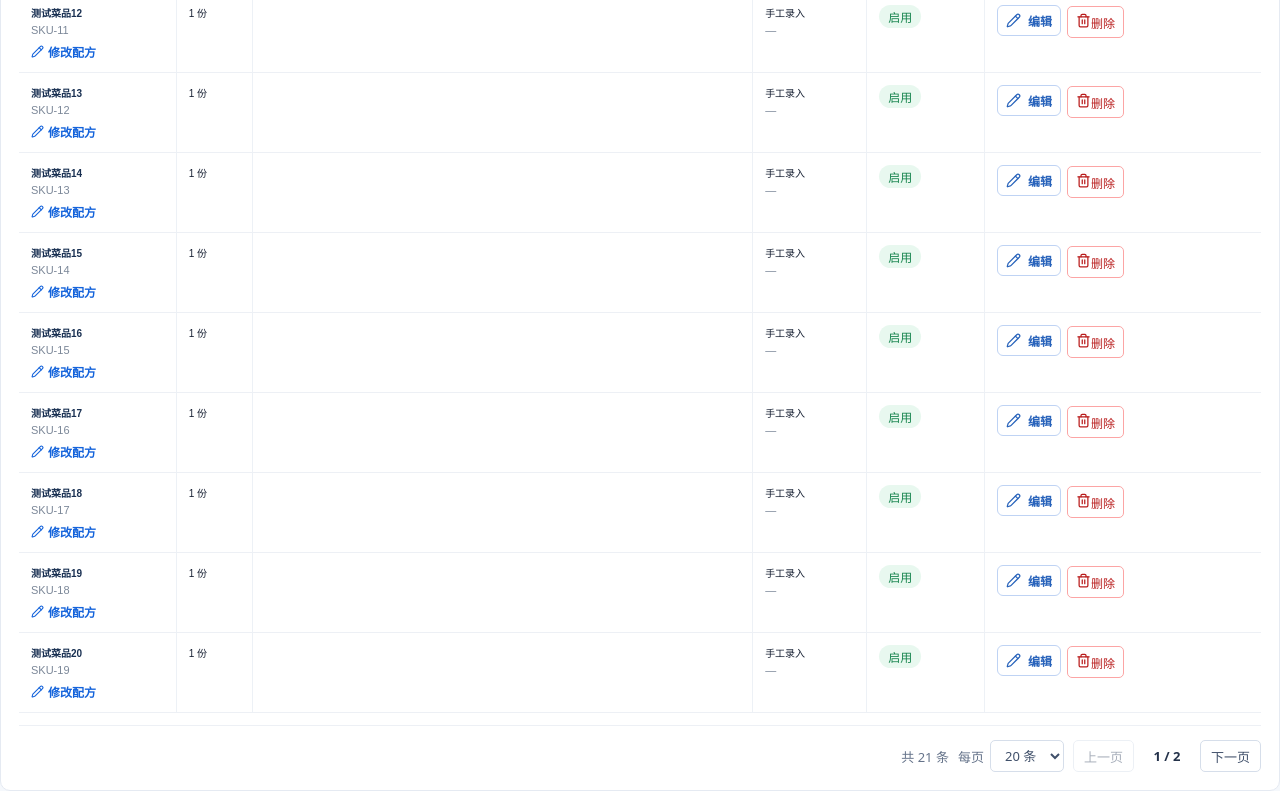
配方分页覆盖完整列表，搜索同一个框可匹配原料分类
(page scrolled)
Check: the button "测试菜品21" is not shown
Click the button "下一页" at (1230, 756), box [1200, 740, 1261, 772]
(page scrolled)
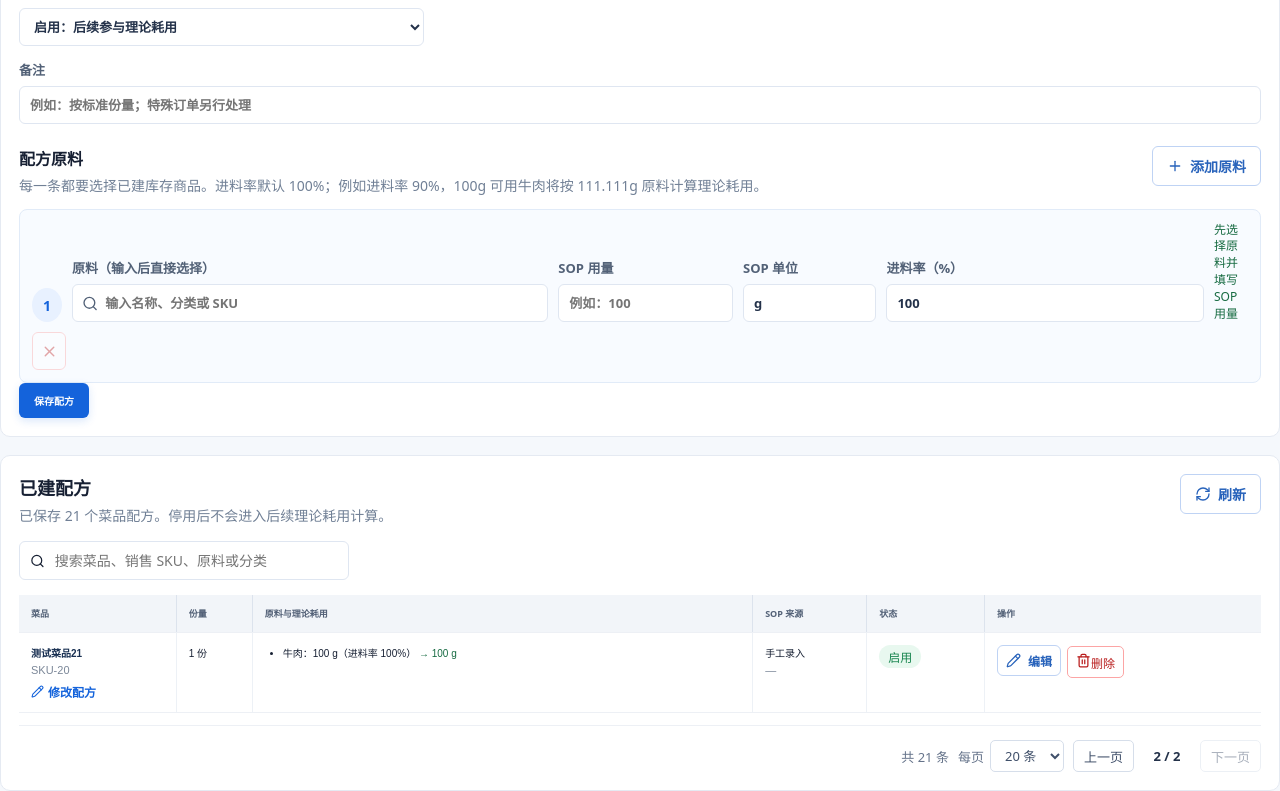
Check: the button "测试菜品21" is shown, box [31, 645, 82, 660]
Type "肉类" into the field with placeholder "搜索菜品、销售 SKU、原料或分类" at (195, 561), box [53, 550, 338, 571]
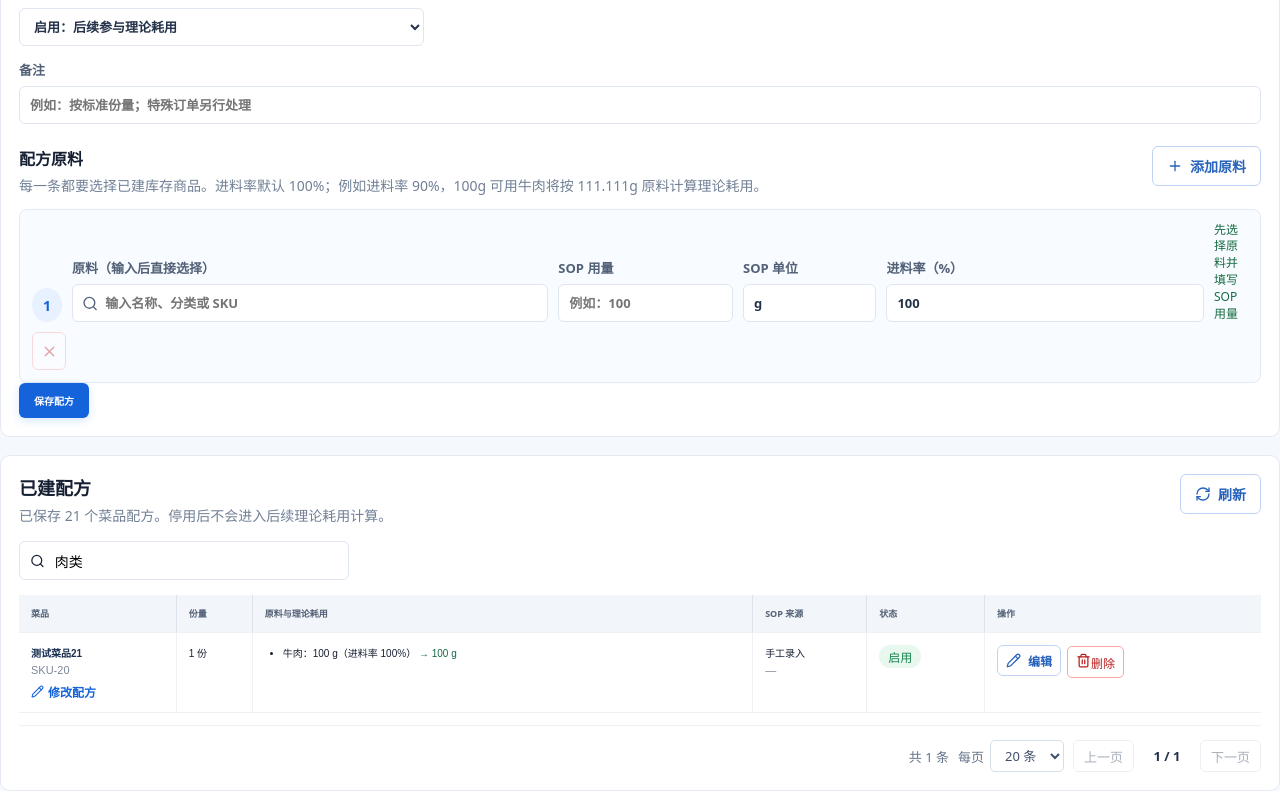
Check: the button "测试菜品21" is shown, box [31, 645, 82, 660]
Check: the text "共 1 条" is shown, box [909, 747, 949, 766]
